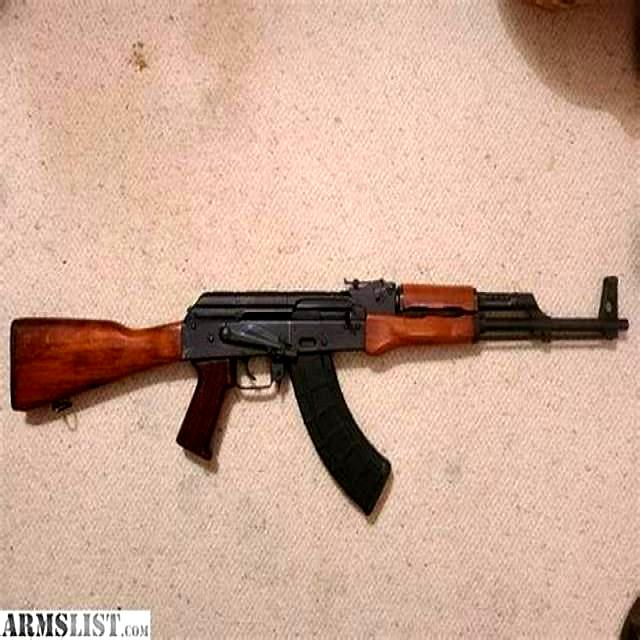ak: (4, 261, 629, 523)
